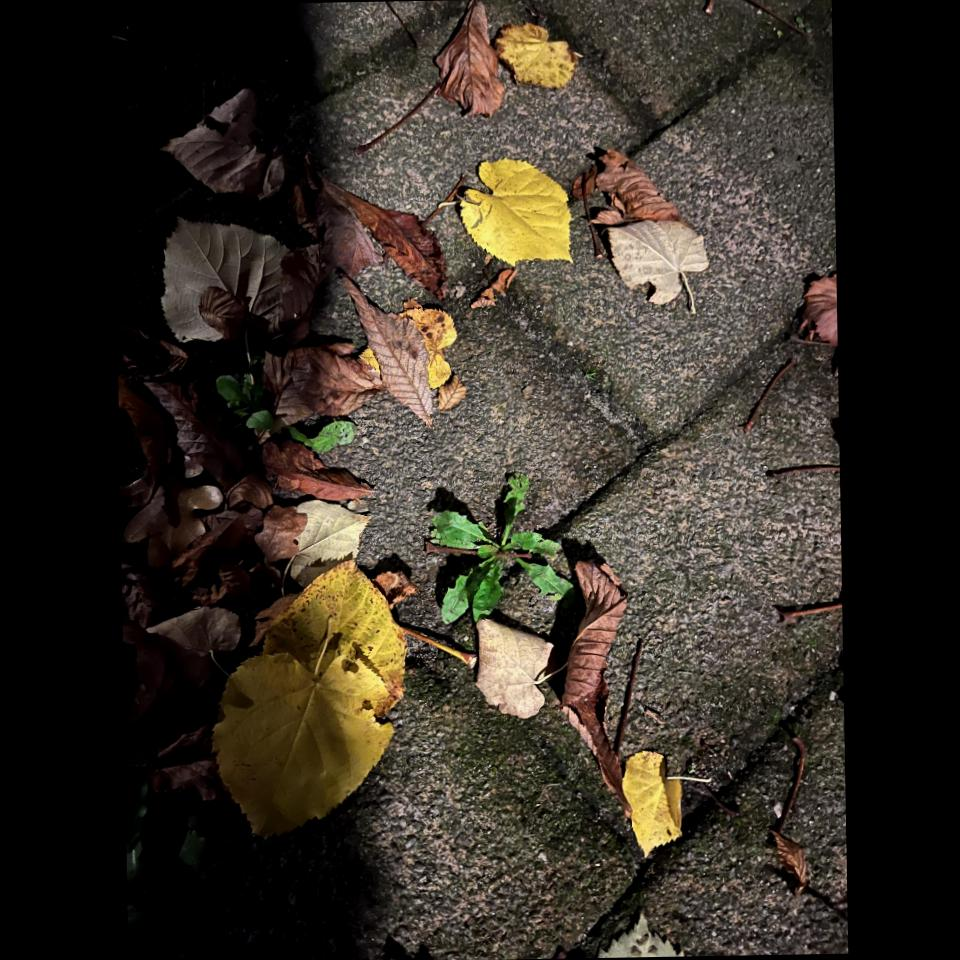weed: (426, 473, 572, 623), (215, 357, 354, 453)
